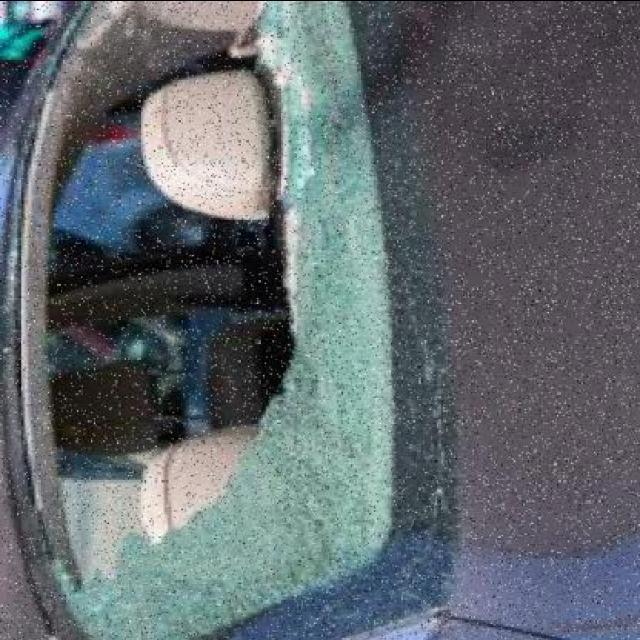Rear-windscreen-Damage: (8, 3, 494, 636)
